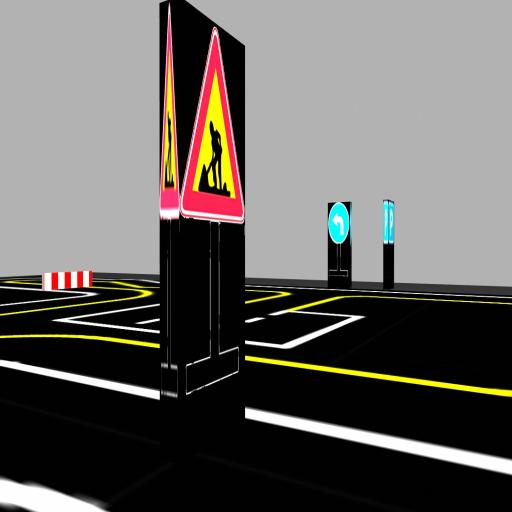Construction: (180, 27, 245, 223), (160, 5, 179, 219)
